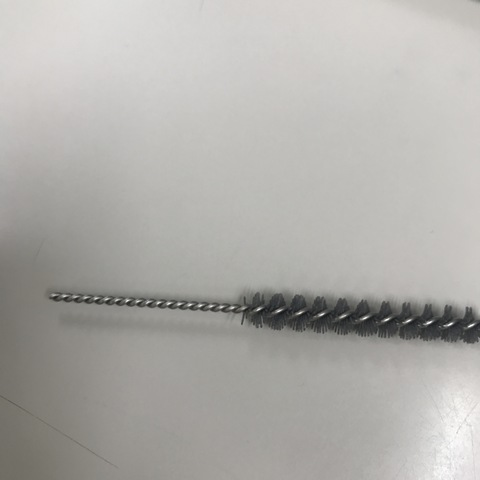Twist Brush-A: (40, 282, 480, 346)
